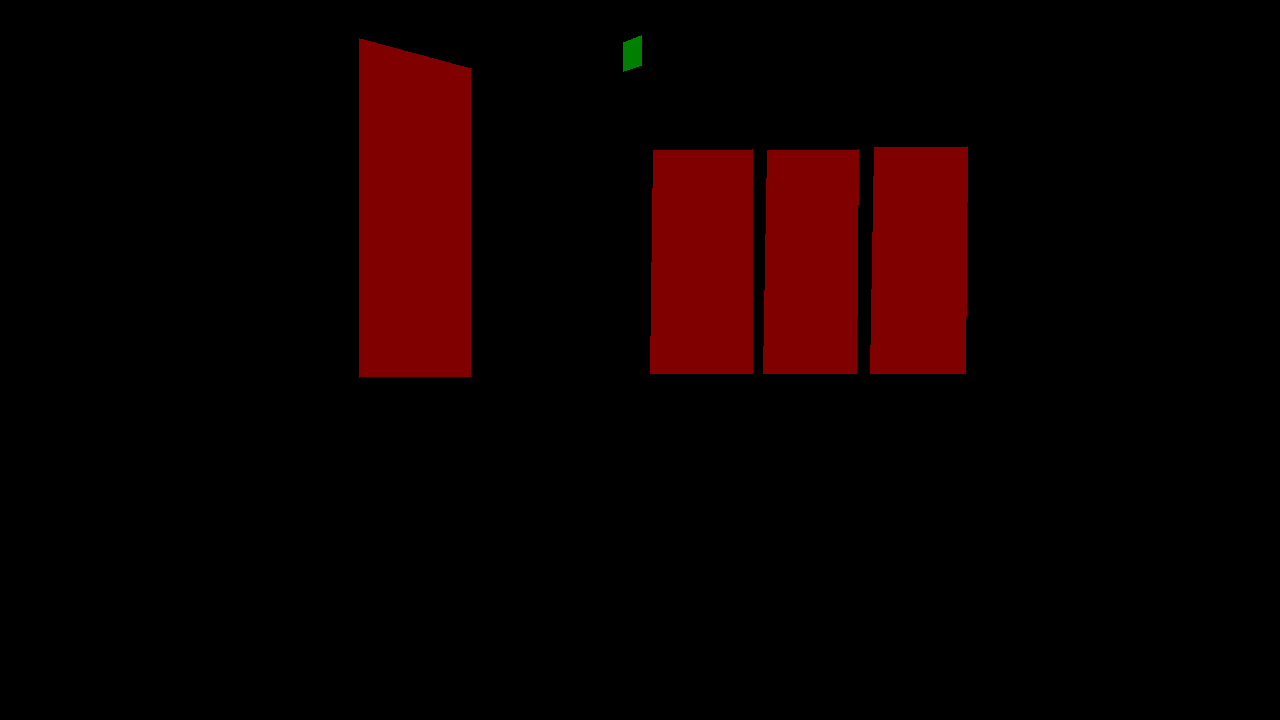door: (359, 38, 470, 377), (650, 149, 752, 373), (870, 146, 967, 373), (763, 149, 858, 373)
sign: (623, 35, 641, 71)
